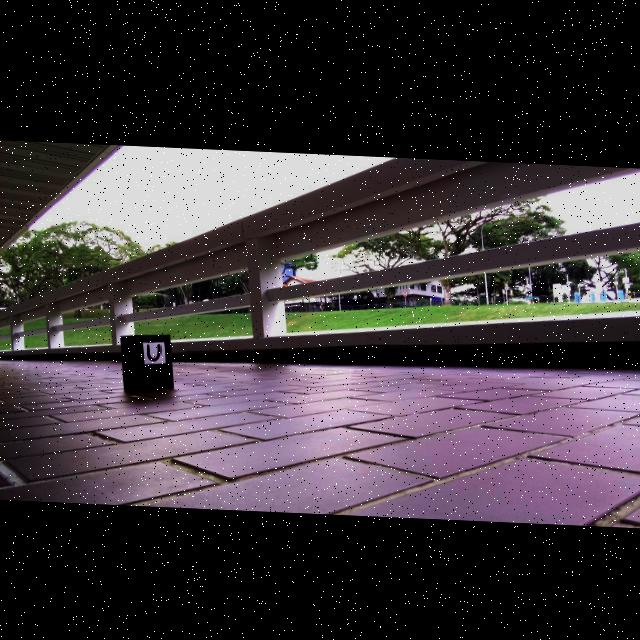U: (147, 343, 161, 359)
